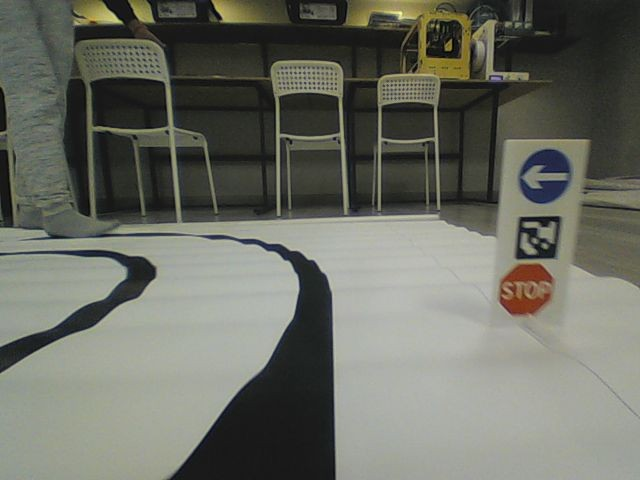Stop: (498, 261, 555, 316)
